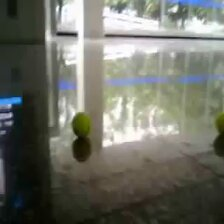tennis: (70, 112, 91, 138), (215, 111, 224, 133)
